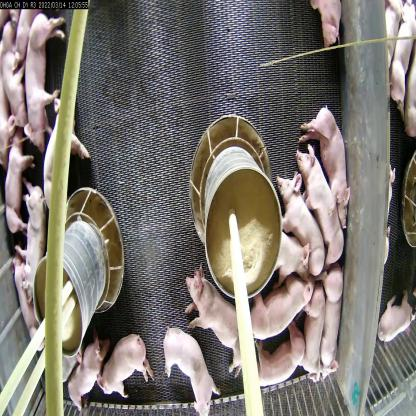Pig: (292, 140, 345, 266), (303, 100, 357, 216), (25, 7, 68, 149), (236, 269, 308, 352), (42, 92, 90, 209), (183, 273, 253, 352), (12, 178, 50, 314), (278, 171, 325, 277), (168, 330, 220, 410), (252, 317, 303, 385), (102, 338, 147, 403), (70, 338, 101, 415), (324, 260, 342, 382), (301, 286, 320, 366)
